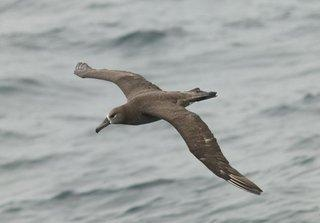bird: (73, 56, 265, 195)
